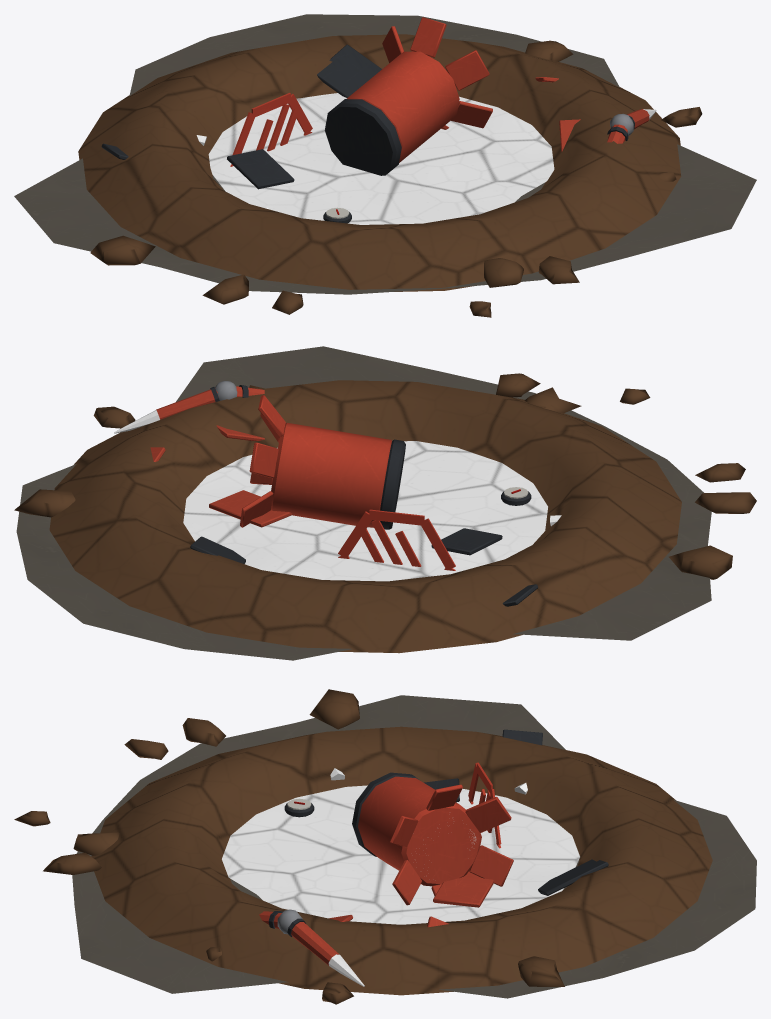
File: scuttler_blast_pit.glb
The picture shows the model from 3 angles, top to bottom: view 1: azimuth 30°, elevation 25°; view 2: azimuth 150°, elevation 25°; view 3: azimuth 270°, elevation 25°; orthographic projection. The views are drawn at different scales.
Visible parts, largest first — view 1: scuttler_blast_pit.001; view 2: scuttler_blast_pit.001; view 3: scuttler_blast_pit.001.
Part boxes in pixels (x1,y1,x2,y2): scuttler_blast_pit.001: (14, 14, 756, 317); scuttler_blast_pit.001: (14, 346, 756, 660); scuttler_blast_pit.001: (14, 689, 756, 1004).
Size of the model in its own units: 3.97 by 0.927 by 4.01.
Materials: 11 (11 with a texture image).
